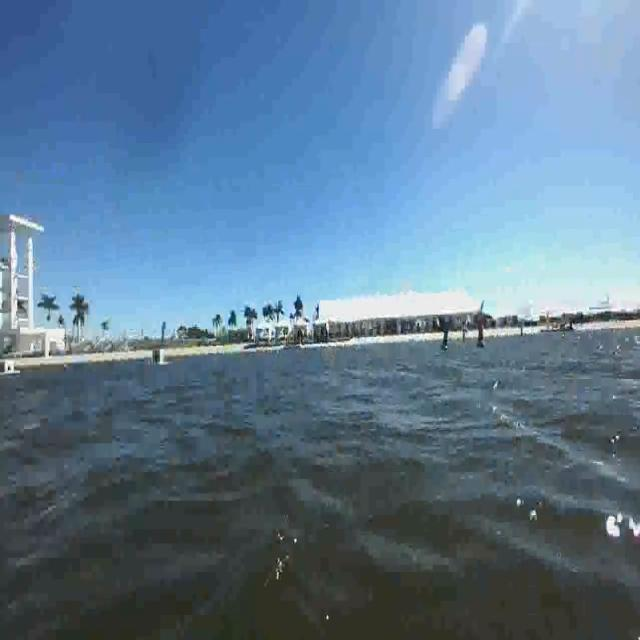green-column-buoy: (442, 325, 452, 351)
red-column-buoy: (476, 316, 488, 351)
